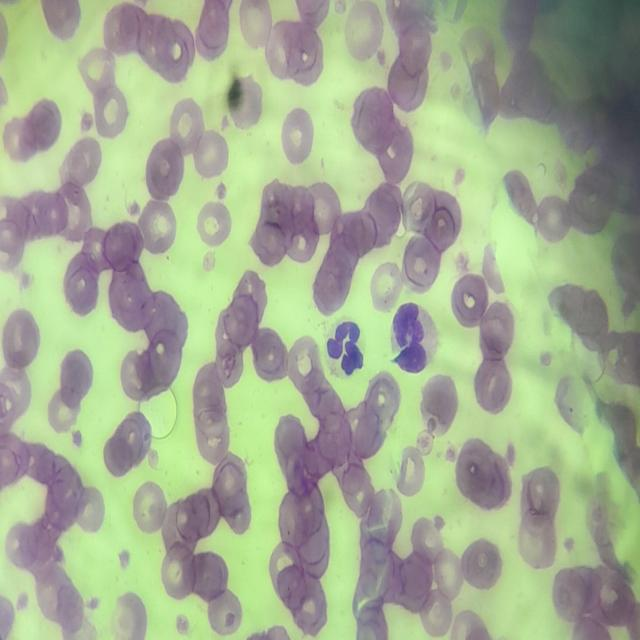Neutrofilo: (390, 301, 442, 372), (327, 319, 366, 380)
